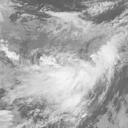cyclone: (27, 56, 91, 116)
